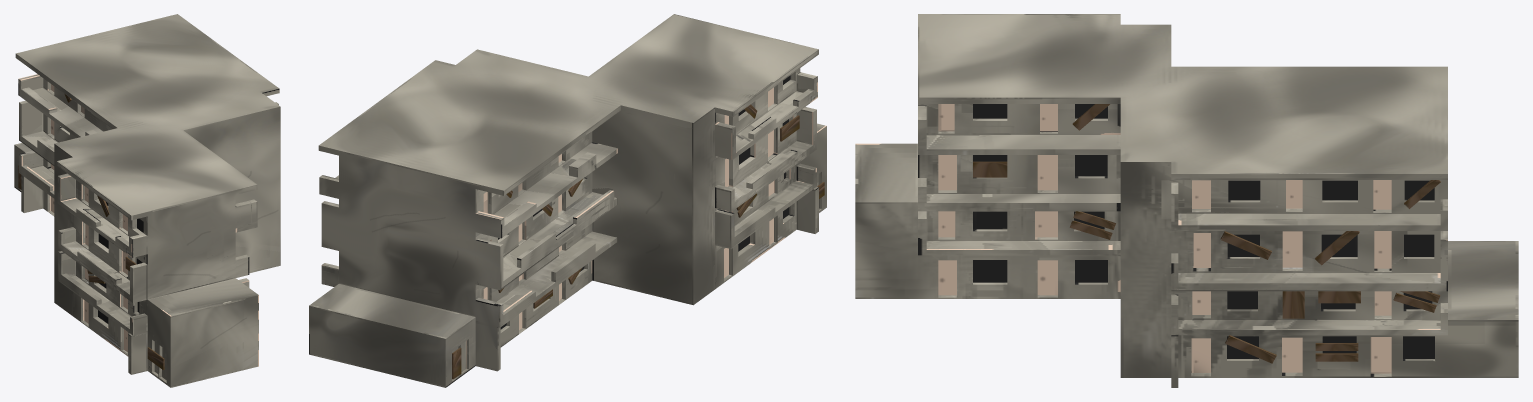
The model's file is appartementecomplex VERSIE 1.fbx.
3 renders of one model, left to right at view 1: azimuth 30°, elevation 25°; view 2: azimuth 150°, elevation 25°; view 3: azimuth 270°, elevation 25°, orthographic. The views are drawn at different scales.
Visible parts, largest first — view 1: Cube.001; view 2: Cube.001; view 3: Cube.001.
Part boxes in pixels (<box>): Cube.001: <box>14,14,280,387</box>; Cube.001: <box>309,14,826,387</box>; Cube.001: <box>855,14,1518,387</box>.
Size of the model in its own units: 856 by 539 by 1502.
30 materials, 30 textured.
